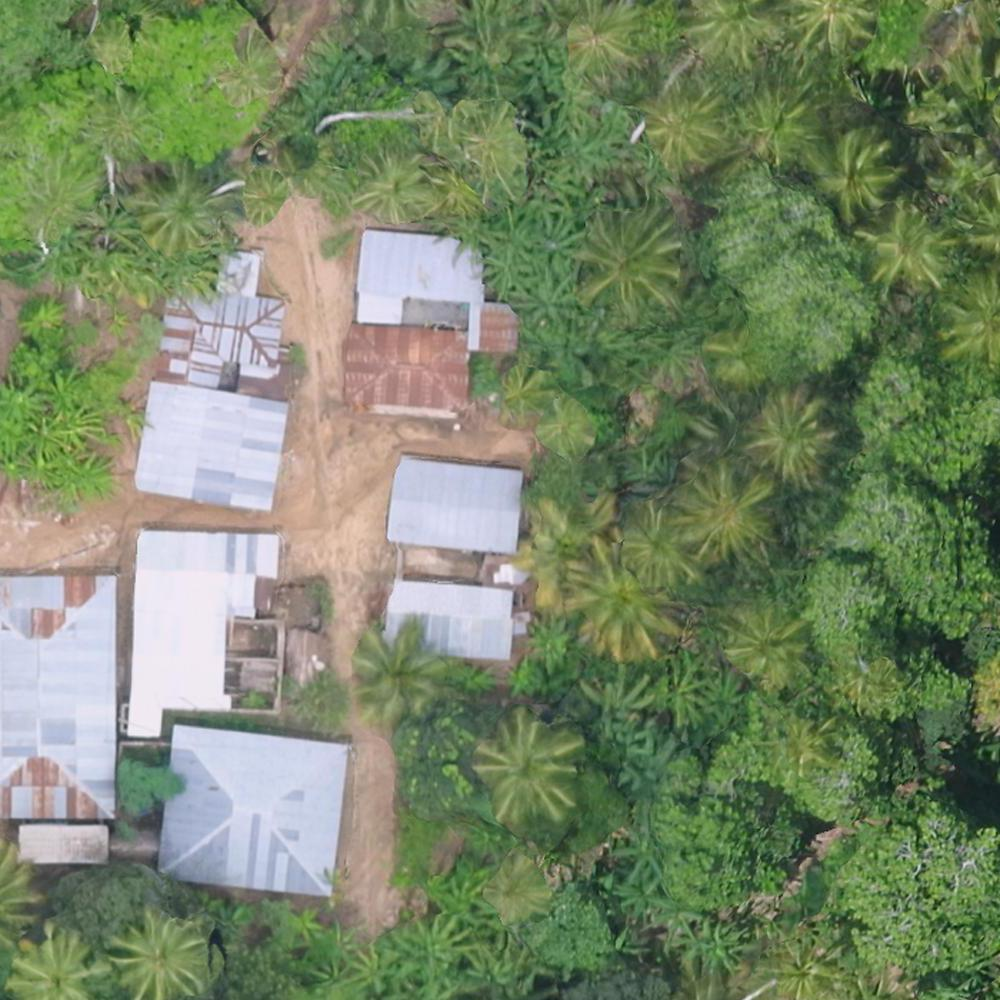Palm: (564, 546, 677, 659), (472, 711, 582, 822), (574, 204, 682, 314), (670, 460, 776, 566), (855, 205, 955, 301), (719, 600, 815, 697), (742, 388, 832, 488), (352, 624, 446, 717), (129, 160, 225, 250), (105, 914, 204, 1000), (817, 124, 903, 210), (613, 505, 697, 590), (13, 927, 105, 1000), (686, 1, 782, 69), (641, 84, 724, 162), (738, 78, 812, 165), (930, 269, 1000, 358), (562, 5, 642, 80), (354, 149, 429, 222)
